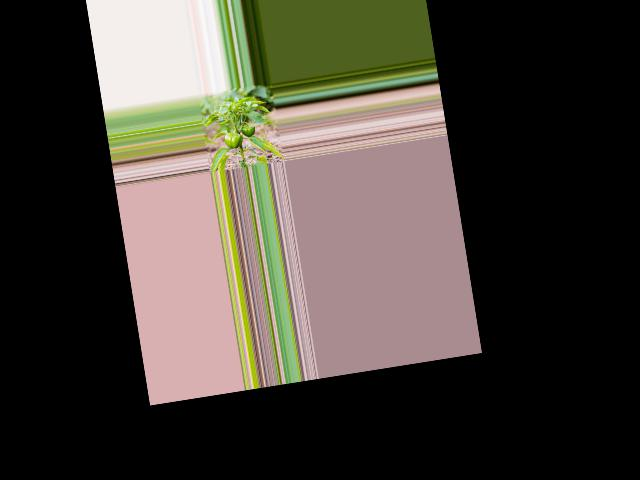bell_pepper: (240, 122, 257, 138)
